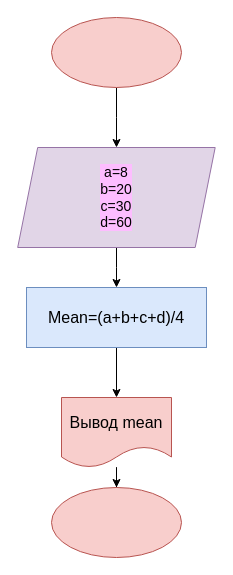
Image size: 233x575. Some labels were removed from this diagram. Here are the shapes that lost their labels. From the top down, the centre of each, then its label:
point 116,52: Старт
point 116,522: Завершение
